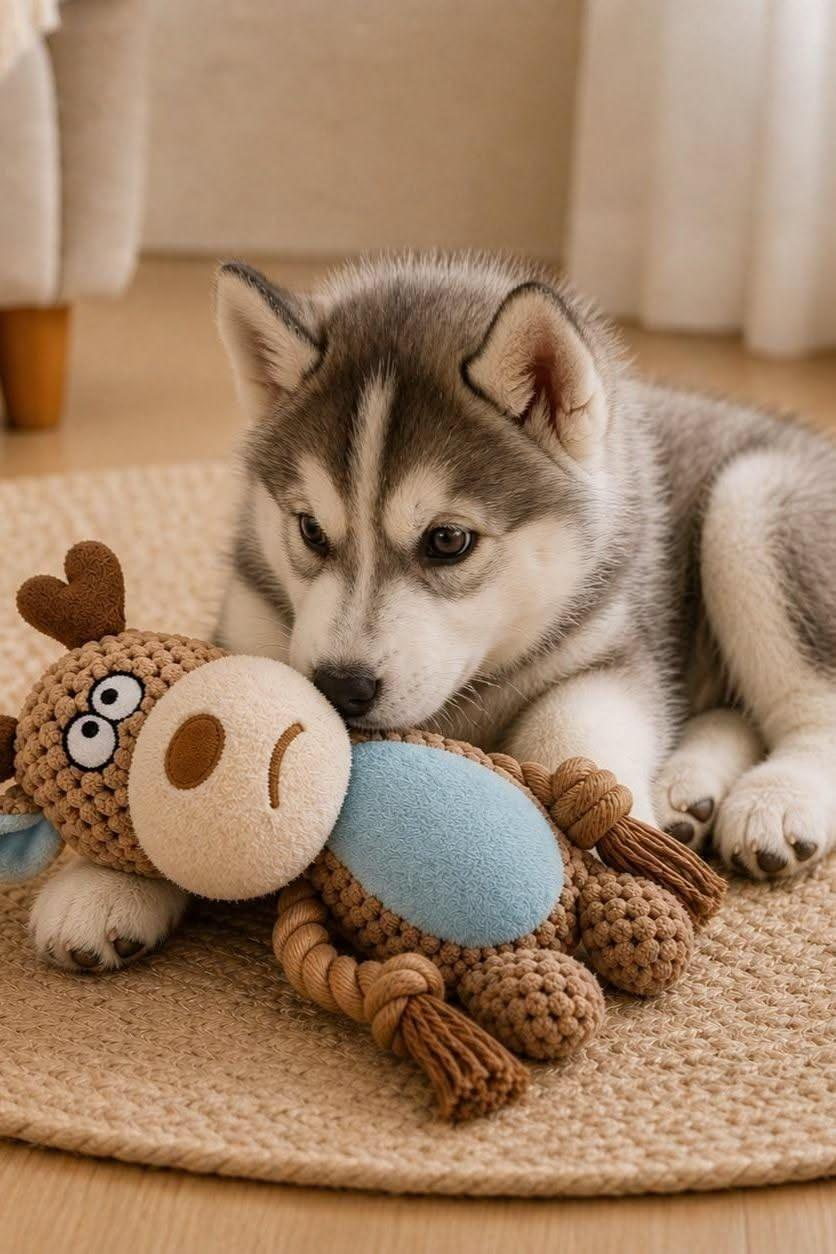non-dog: (0, 540, 724, 1118)
puppy-dog: (23, 248, 836, 974)
